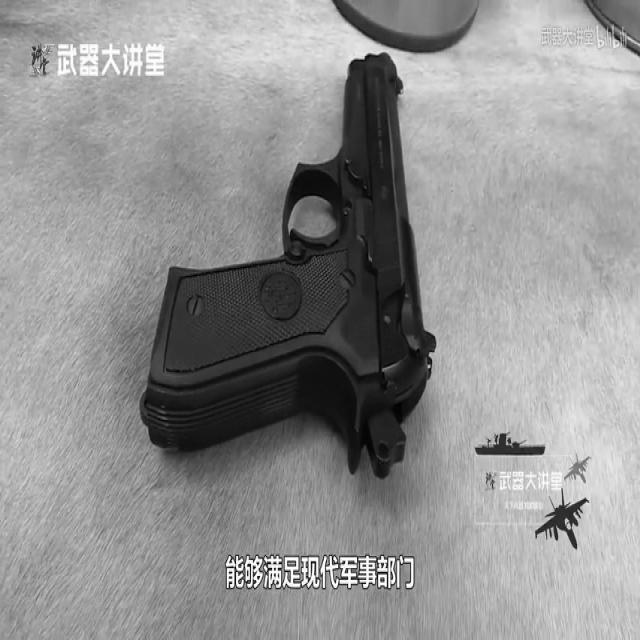Hand-Gun: (128, 36, 430, 516)
